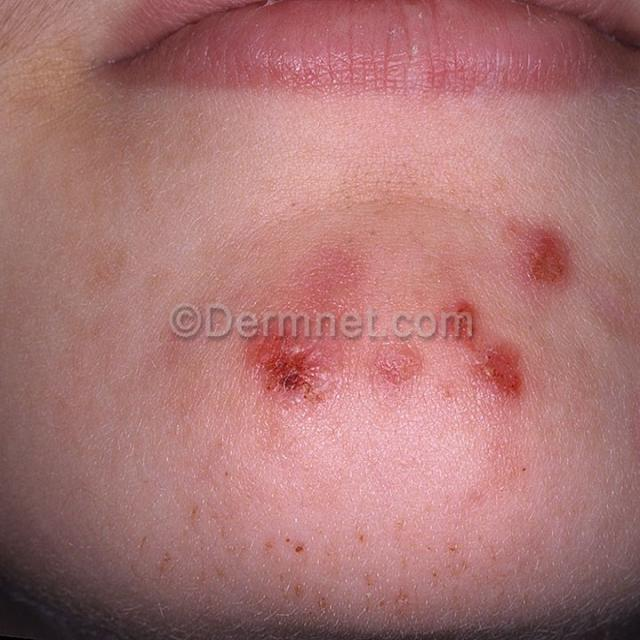Acne: (247, 336, 346, 408), (515, 222, 580, 302), (301, 241, 367, 312), (368, 338, 428, 394), (476, 341, 526, 402)
